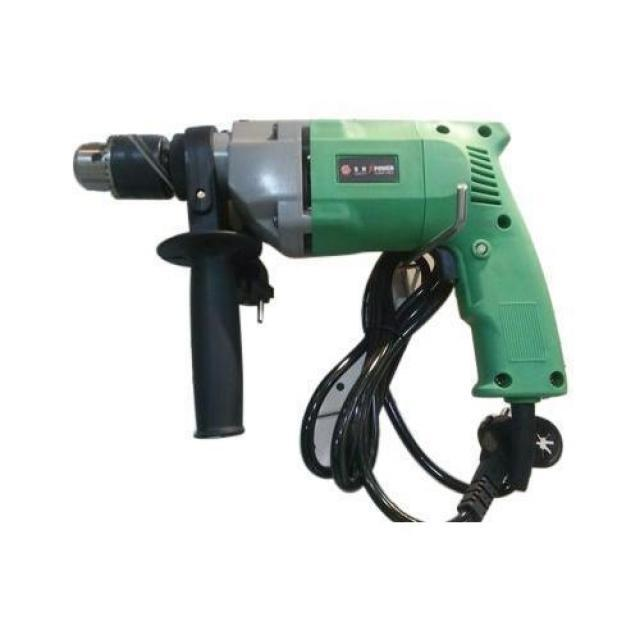drill: (72, 119, 574, 492)
